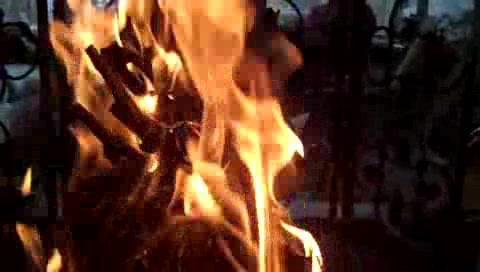fire: (50, 0, 329, 272)
